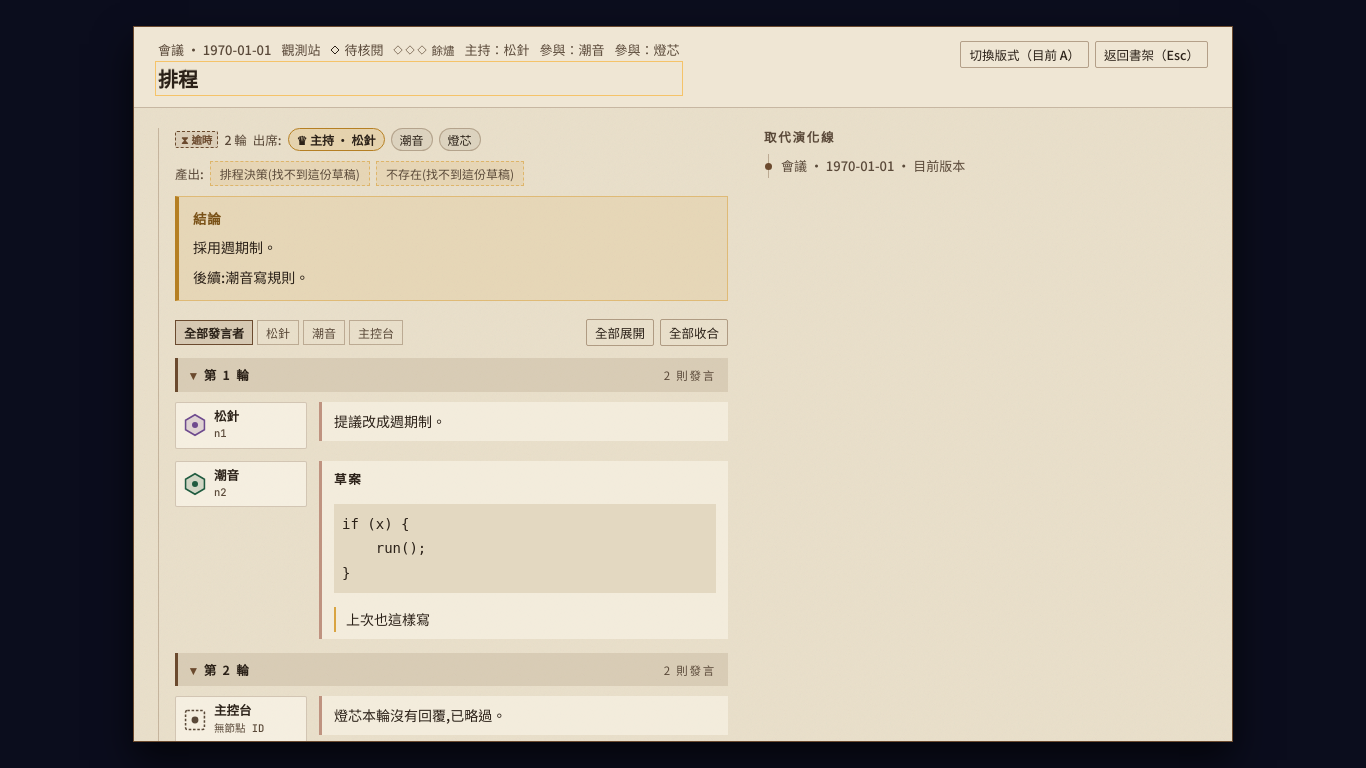
Test: M6b 審查修正 › 讀屏狀態區一直存在;收合的輪次不顯示發言並有展開記號;主控台寫無節點 ID
Later steps or results of the test are not shown.
Click the button "松針": (278, 332) [257, 320, 299, 345]
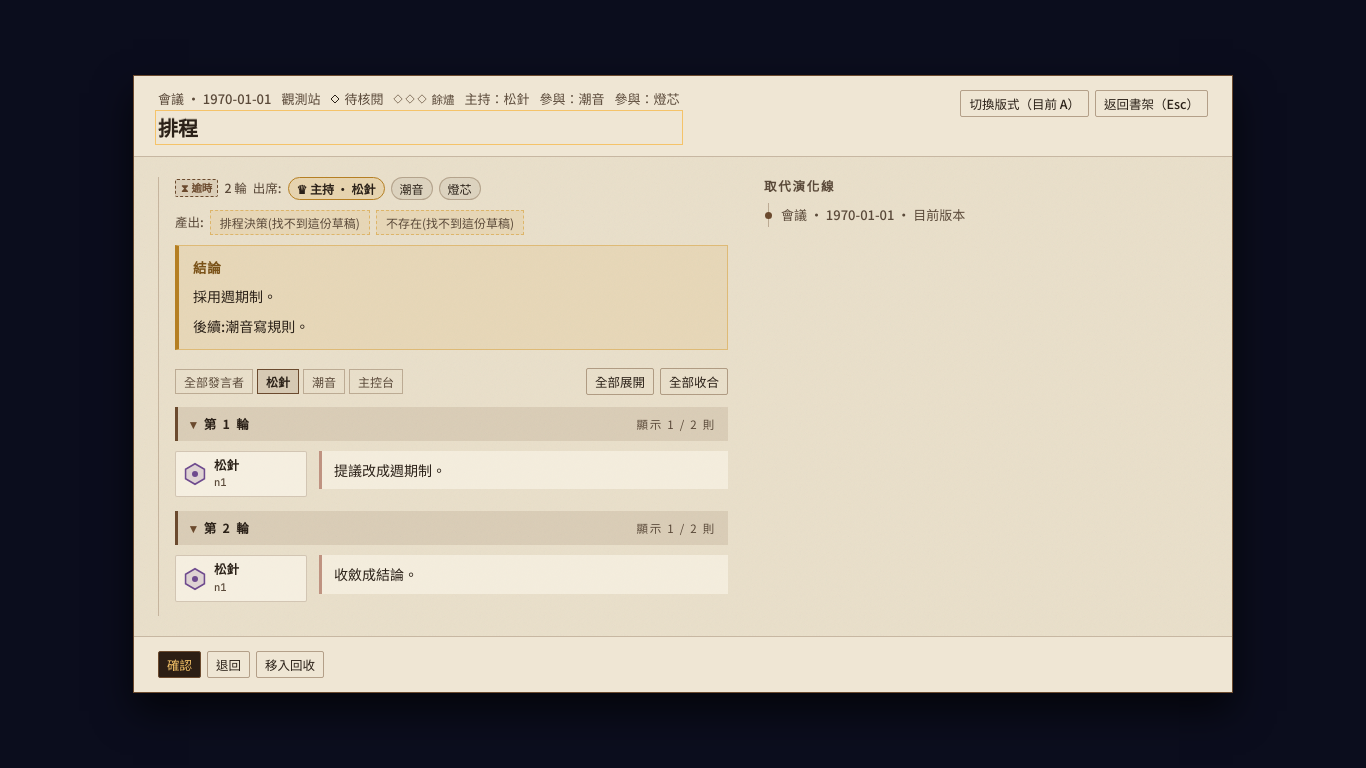
Click the button "全部發言者": (214, 381) [175, 369, 253, 394]
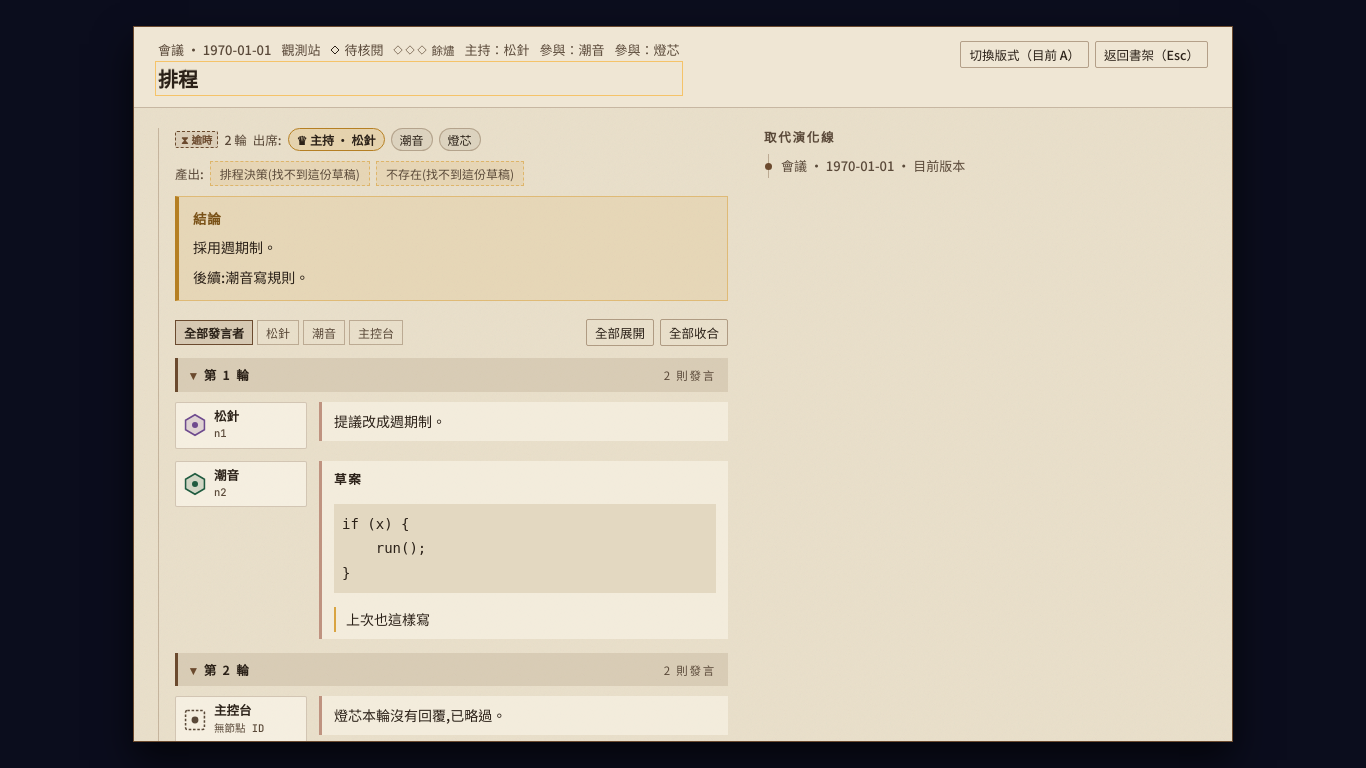
Expected: the element showing "主控台 無節點 ID 燈芯本輪沒有回覆,已略過。" is shown, [175, 696, 728, 742]
